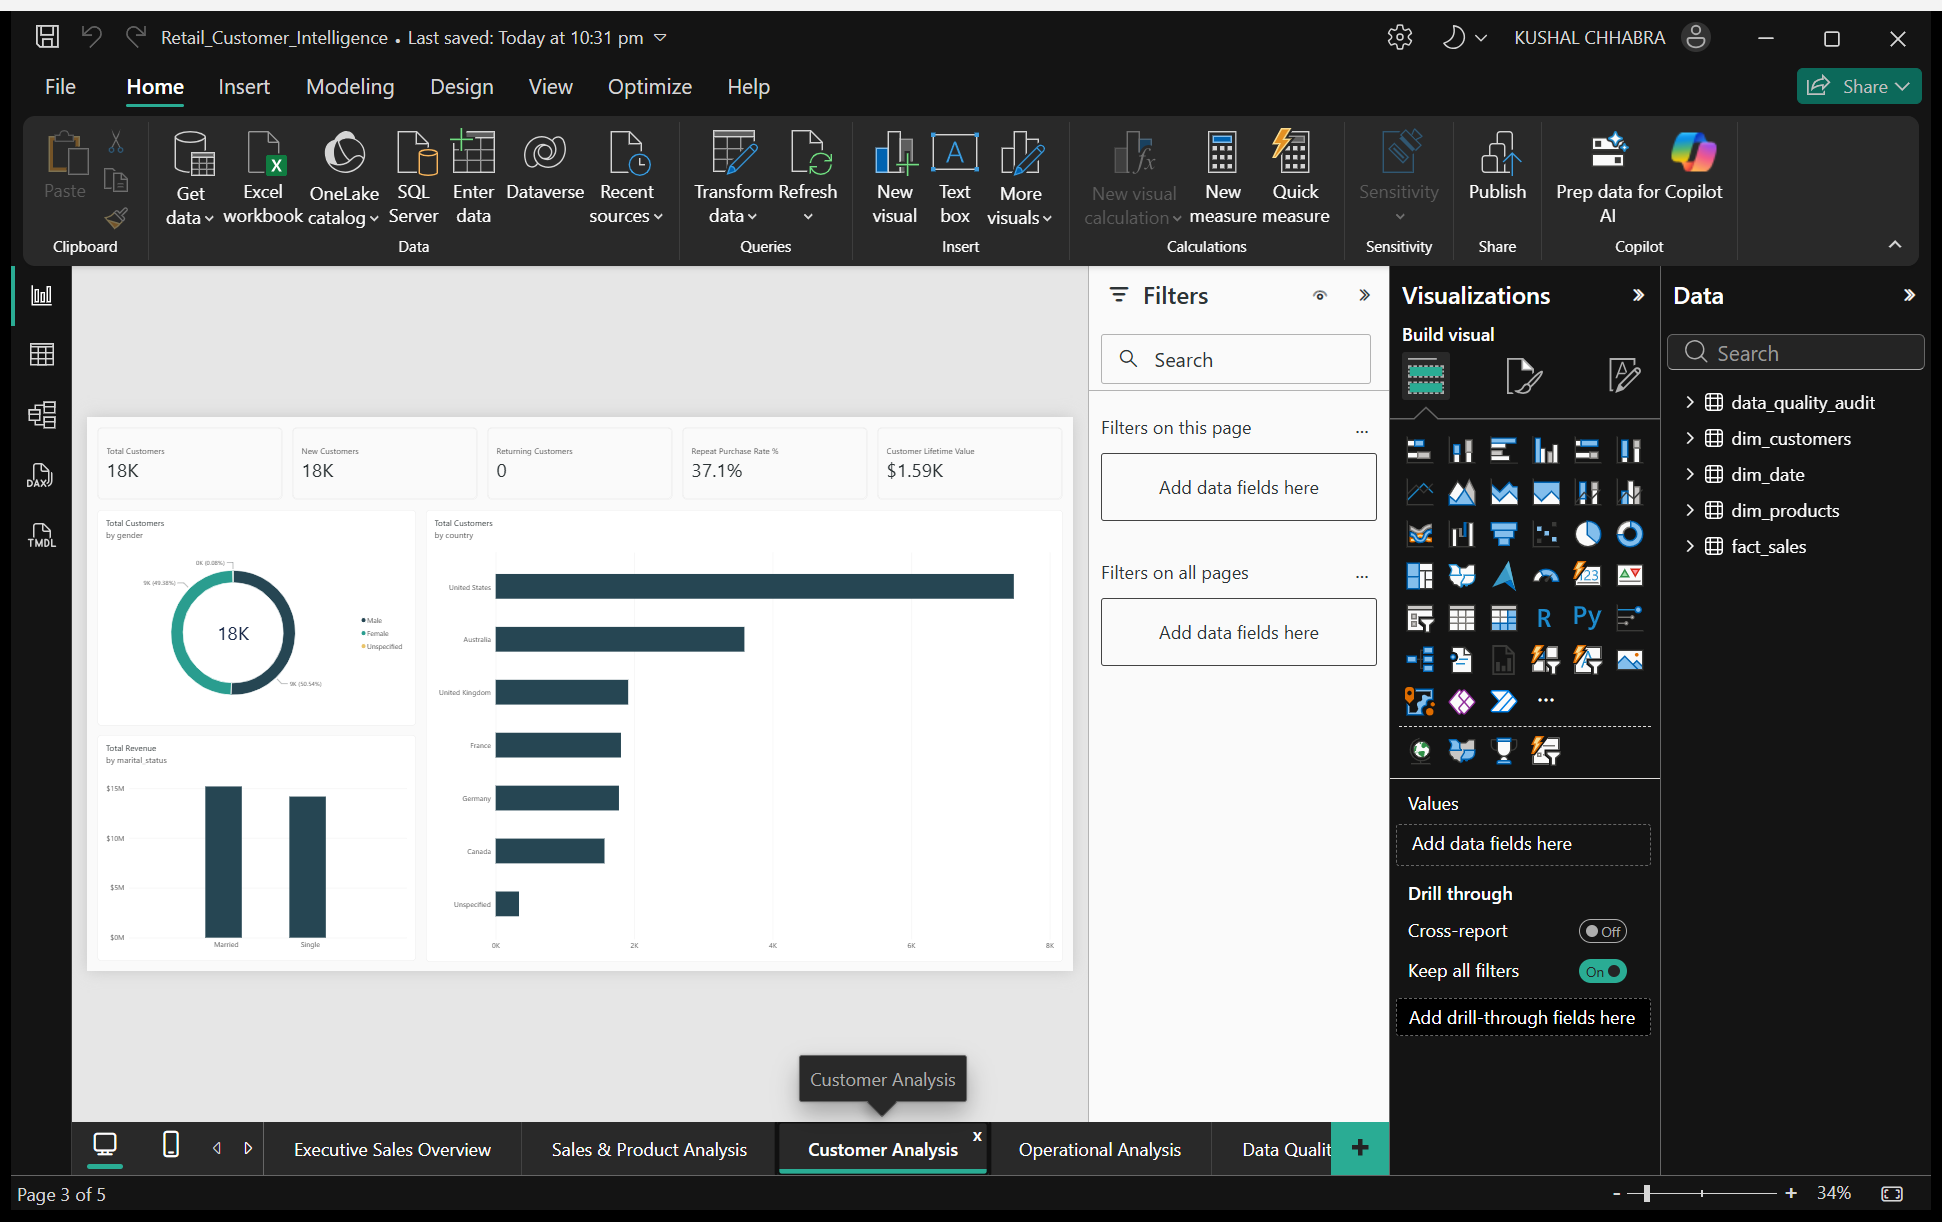

The dashboard page shown, as its layout file describes it:
{"tool":"powerbi","page":{"name":"Customer Analysis","canvas":[1920,1080],"ordinal":2},"visuals":[{"type":"cardVisual","fields":{"Data":["fact_sales.Total Customers"]},"box":[20,20,360,140],"z":0},{"type":"cardVisual","fields":{"Data":["fact_sales.New Customers"]},"box":[400,20,360,140],"z":1},{"type":"cardVisual","fields":{"Data":["fact_sales.Returning Customers"]},"box":[780,20,360,140],"z":2},{"type":"cardVisual","fields":{"Data":["fact_sales.Repeat Purchase Rate %"]},"box":[1160,20,360,140],"z":3},{"type":"cardVisual","fields":{"Data":["fact_sales.Customer Lifetime Value"]},"box":[1540,20,360,140],"z":4},{"type":"donutChart","fields":{"Category":["dim_customers.gender"],"Y":["fact_sales.Total Customers"]},"box":[20,180,620,420],"z":5},{"type":"columnChart","fields":{"Category":["dim_customers.marital_status"],"Y":["fact_sales.Total Revenue"]},"box":[20,620,620,440],"z":6},{"type":"clusteredBarChart","fields":{"Category":["dim_customers.country"],"Y":["fact_sales.Total Customers"]},"box":[660,180,1240,880],"z":7}]}

Visuals, with their boxes on the page's 1920x1080 design canvas (x1, y1, x2, y2). These are canvas units, not pixel positions in the 1942x1222 screenshot, which may show the page scaled, cropped or inside an application window:
cardVisual - fact_sales.Total Customers: 20/20/380/160
cardVisual - fact_sales.New Customers: 400/20/760/160
cardVisual - fact_sales.Returning Customers: 780/20/1140/160
cardVisual - fact_sales.Repeat Purchase Rate %: 1160/20/1520/160
cardVisual - fact_sales.Customer Lifetime Value: 1540/20/1900/160
donutChart - dim_customers.gender x fact_sales.Total Customers: 20/180/640/600
columnChart - dim_customers.marital_status x fact_sales.Total Revenue: 20/620/640/1060
clusteredBarChart - dim_customers.country x fact_sales.Total Customers: 660/180/1900/1060
